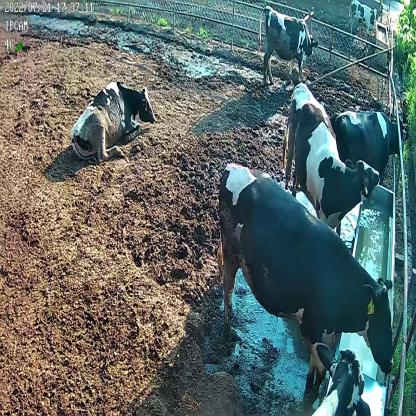cow: (216, 160, 396, 384), (281, 83, 379, 235), (69, 76, 155, 160), (332, 106, 406, 182), (255, 6, 318, 84), (348, 0, 378, 40)
